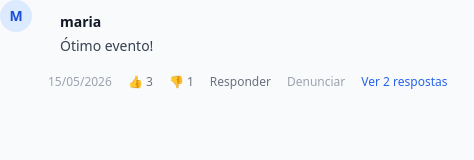
it: Comment › exibe "Denunciado" após reportar
Click the button with aria-label "Denunciar comentário": (316, 82) x1=287 y1=74 x2=345 y2=90
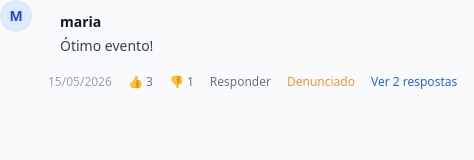
Now the button "Denunciado" is shown, box x1=287 y1=74 x2=355 y2=90
